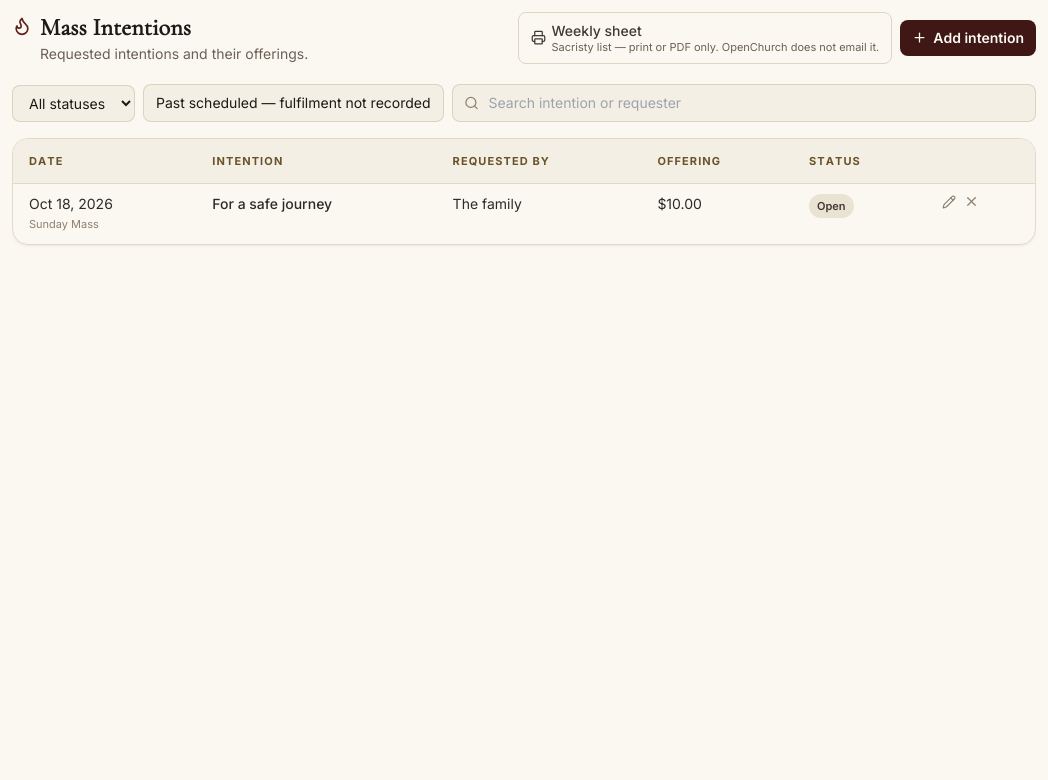
Test: SP-063 fulfilment confirmation › PATCH that sets fulfilled shows the fulfilment toast only after 200, not the update toast
The image size is (1048, 780).
Click the button named "Edit intention". click: (949, 202)
box: [942,194,956,208]
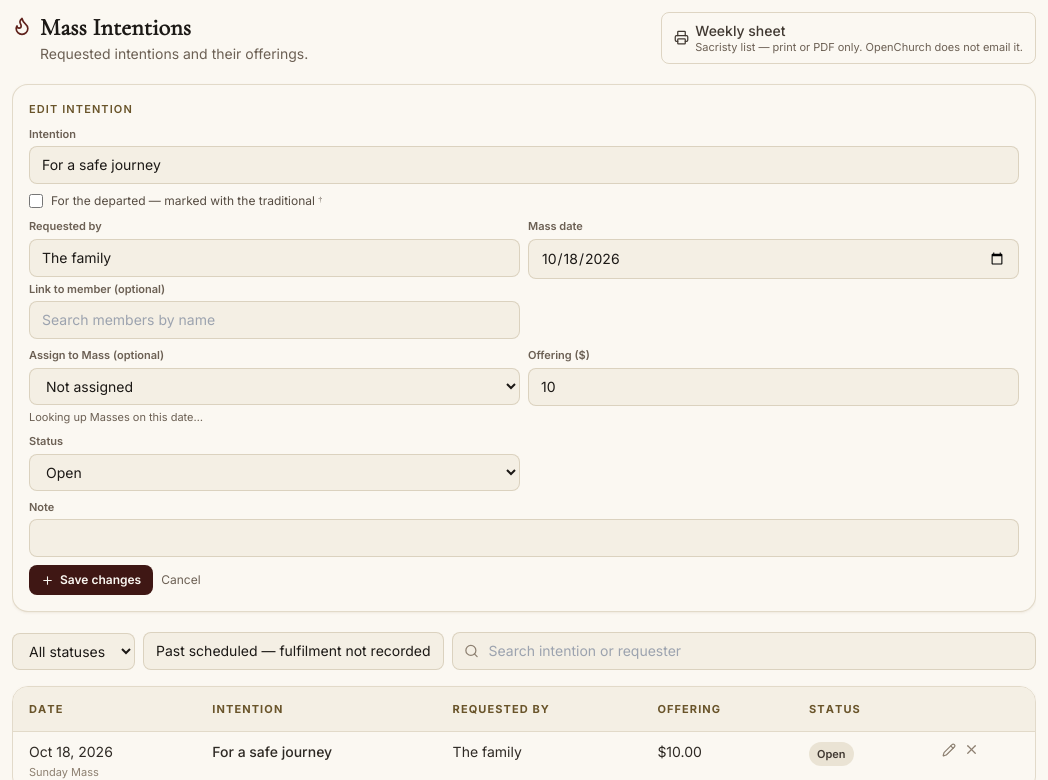
Select "Fulfilled" in the dropdown labelled "Status". click: (274, 472)
box: [29,454,520,490]
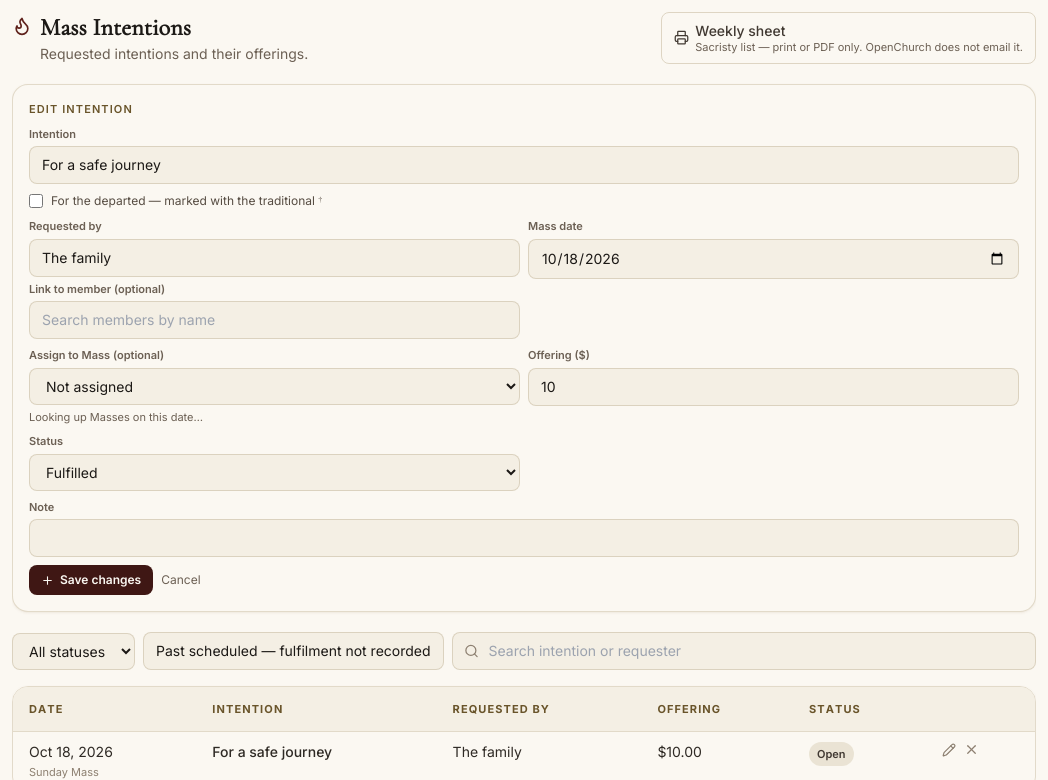
Click the button "Save changes". click: (91, 580)
box: [29,565,153,595]
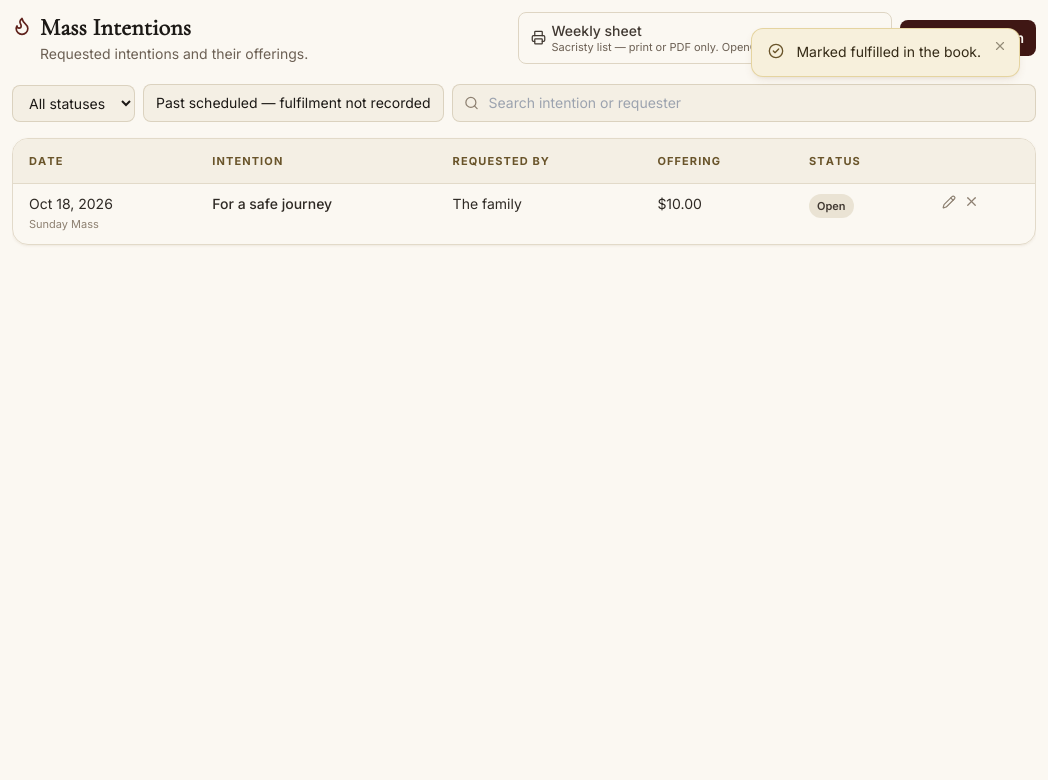
Result: the text "Marked fulfilled in the book." is shown at [796,41,981,64]
